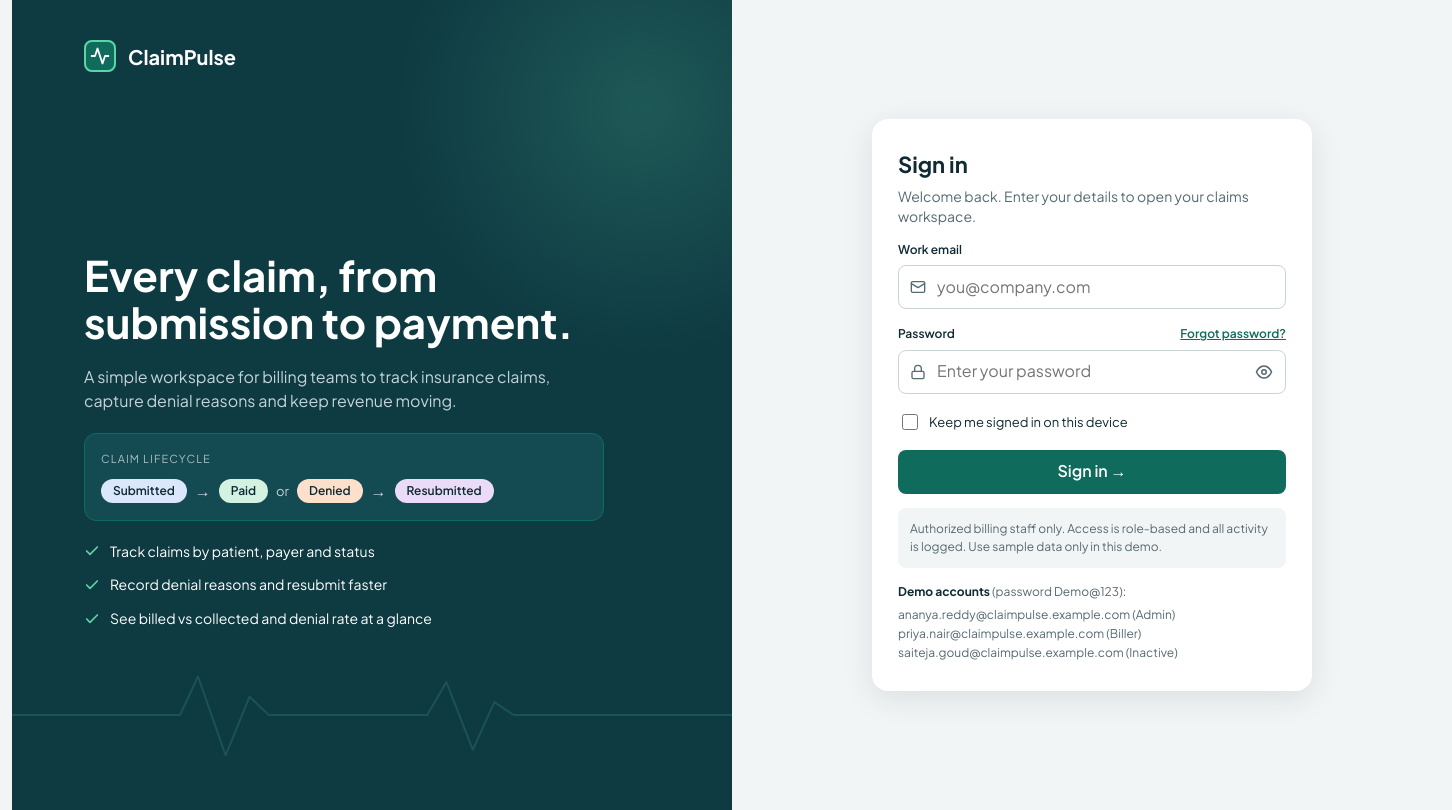
it: App routing and login › shows validation errors for empty fields
Step 1. Click the button "Sign in →" → coordinates (1092, 472), box [898,450,1286,494]
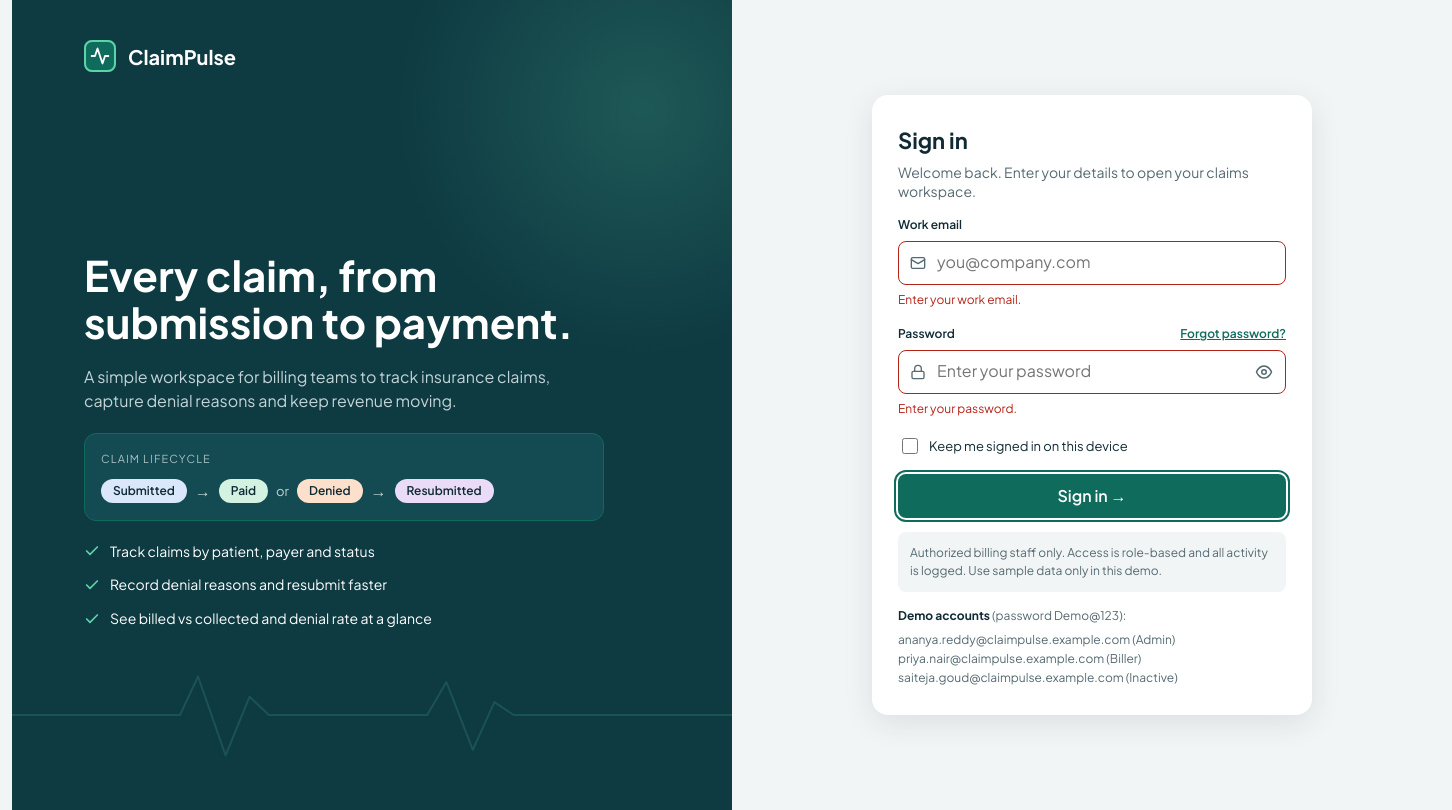
Result: the text "Enter your work email." is shown at [898,292,1021,307]
Result: the text "Enter your password." is shown at [898,401,1017,416]
